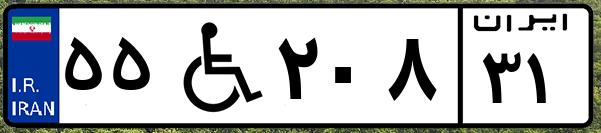0: (330, 28, 385, 110)
1: (525, 38, 570, 115)
2: (270, 28, 330, 110)
3: (475, 38, 525, 113)
5: (57, 26, 110, 100), (110, 28, 158, 98)
8: (385, 28, 445, 110)
ژ (معلولین و جانبازان): (158, 12, 270, 120)
